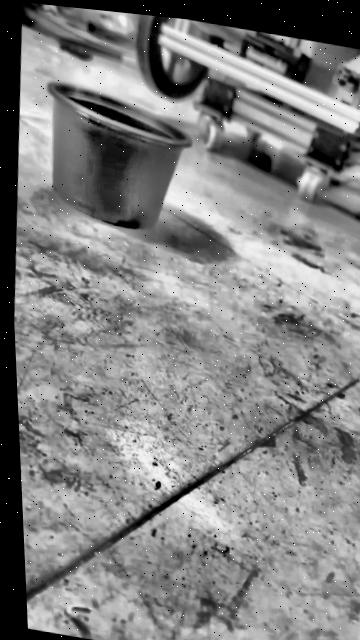pot: (38, 79, 198, 239)
